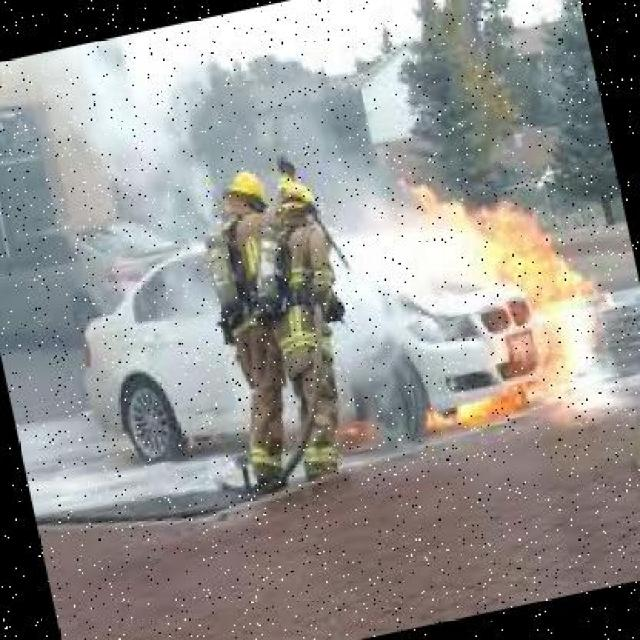fire: (382, 132, 632, 445)
